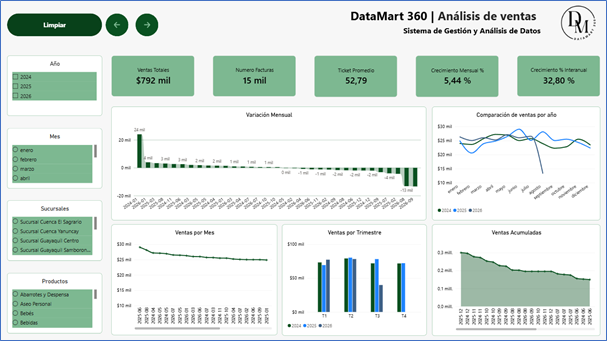

What the dashboard file says about the page in this screenshot:
{"tool":"powerbi","page":{"name":"Análisis Ventas","canvas":[1920,1080],"ordinal":1},"visuals":[{"type":"textbox","box":[1096,22,634,56],"z":0,"group":"g3"},{"type":"actionButton","box":[427.1,41.6,72.4,72.4],"z":0,"group":"g2"},{"type":"listSlicer","fields":{"Values":["Calendario.Año"]},"box":[21.7,173.7,300,190],"z":0},{"type":"cardVisual","fields":{"Data":["_Medidas.Ventas Totales"]},"box":[351.9,174.1,262.1,129.1],"z":0,"group":"g4"},{"type":"actionButton","box":[333,41.6,72.4,72.4],"z":1000,"group":"g2"},{"type":"cardVisual","fields":{"Data":["_Medidas.Ticket Promedio"]},"box":[992.6,174.1,262.1,131],"z":1000,"group":"g4"},{"type":"listSlicer","title":"Mes","fields":{"Values":["Calendario.Nombre Mes"]},"box":[22.2,402.9,300,190],"z":1000},{"type":"listSlicer","title":"Sucursales","fields":{"Values":["sucursales.nombre"]},"box":[21.7,632,300,190],"z":2000},{"type":"group","id":"g1","title":"Grupo 4","box":[1096,22,634,98],"z":3000},{"type":"listSlicer","title":"Productos","fields":{"Values":["categorias.nombre"]},"box":[22.2,861.1,300,190],"z":4000},{"type":"actionButton","title":"Limpiar","box":[21.7,41.6,300,72],"z":5000},{"type":"group","id":"g2","title":"Grupo 3","box":[333,41.6,166.5,72.4],"z":6000},{"type":"cardVisual","fields":{"Data":["_Medidas.Numero Facturas"]},"box":[672.3,174.1,262.1,129.1],"z":6000,"group":"g4"},{"type":"cardVisual","fields":{"Data":["_Medidas.Crecimiento % Interanual"]},"box":[1633.4,174.1,262.1,129.1],"z":7000,"group":"g4"},{"type":"lineChart","title":"Ventas por Mes","fields":{"Category":["Calendario.Año-Mes"],"Y":["_Medidas.Ventas Totales"]},"box":[351.4,706.8,524.2,349.5],"z":7000},{"type":"cardVisual","fields":{"Data":["_Medidas.Crecimiento Mensual %"]},"box":[1313,174.1,262.1,131],"z":8000,"group":"g4"},{"type":"areaChart","title":"Ventas Acumuladas","fields":{"Category":["Calendario.Año-Mes"],"Y":["_Medidas.Ventas YTD"]},"box":[1364.8,707.4,531.5,351.9],"z":8000},{"type":"clusteredColumnChart","title":"Ventas por Trimestre","fields":{"Category":["Calendario.Trimestre"],"Series":["Calendario.Año"],"Y":["_Medidas.Ventas Totales"]},"box":[891.5,706.8,456.7,351.4],"z":9000},{"type":"columnChart","title":"Variación Mensual","fields":{"Category":["Calendario.Año-Mes"],"Y":["_Medidas.Variación Mensual"]},"box":[351.9,335.2,994.4,359.3],"z":10000},{"type":"group","id":"g3","title":"Grupo 2","box":[1096,22,634,98],"z":11000,"group":"g1"},{"type":"lineChart","title":"Comparación de ventas por año","fields":{"Category":["Calendario.Nombre Mes"],"Series":["Calendario.Año"],"Y":["_Medidas.Ventas Totales"]},"box":[1364.8,335.2,531.5,359.3],"z":11000},{"type":"group","id":"g4","title":"Grupo 5","box":[351.9,174.1,1543.6,131],"z":12000},{"type":"image","box":[1757.4,3.7,138.9,137],"z":12001},{"type":"textbox","box":[1274,78,446,42],"z":16000,"group":"g3"}]}

Visuals, with their boxes in screenshot pixels (x1, y1, x2, y2), scaled from the page's 1920x1080 canvas onto the 607x341 screenshot:
textbox: (left=346, top=7, right=547, bottom=25)
actionButton: (left=135, top=13, right=158, bottom=36)
listSlicer - Calendario.Año: (left=7, top=55, right=102, bottom=115)
cardVisual - _Medidas.Ventas Totales: (left=111, top=55, right=194, bottom=96)
actionButton: (left=105, top=13, right=128, bottom=36)
cardVisual - _Medidas.Ticket Promedio: (left=314, top=55, right=397, bottom=96)
"Mes" listSlicer: (left=7, top=127, right=102, bottom=187)
"Sucursales" listSlicer: (left=7, top=200, right=102, bottom=260)
"Grupo 4" group: (left=346, top=7, right=547, bottom=38)
"Productos" listSlicer: (left=7, top=272, right=102, bottom=332)
"Limpiar" actionButton: (left=7, top=13, right=102, bottom=36)
"Grupo 3" group: (left=105, top=13, right=158, bottom=36)
cardVisual - _Medidas.Numero Facturas: (left=213, top=55, right=295, bottom=96)
cardVisual - _Medidas.Crecimiento % Interanual: (left=516, top=55, right=599, bottom=96)
"Ventas por Mes" lineChart: (left=111, top=223, right=277, bottom=334)
cardVisual - _Medidas.Crecimiento Mensual %: (left=415, top=55, right=498, bottom=96)
"Ventas Acumuladas" areaChart: (left=431, top=223, right=600, bottom=334)
"Ventas por Trimestre" clusteredColumnChart: (left=282, top=223, right=426, bottom=334)
"Variación Mensual" columnChart: (left=111, top=106, right=426, bottom=219)
"Grupo 2" group: (left=346, top=7, right=547, bottom=38)
"Comparación de ventas por año" lineChart: (left=431, top=106, right=600, bottom=219)
"Grupo 5" group: (left=111, top=55, right=599, bottom=96)
image: (left=556, top=1, right=600, bottom=44)
textbox: (left=403, top=25, right=544, bottom=38)
